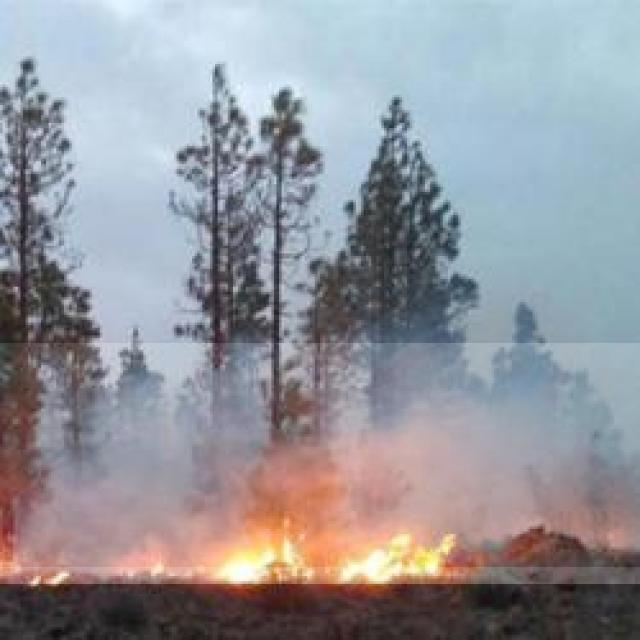Fire: (0, 466, 640, 584)
Smoke: (0, 343, 640, 568)
